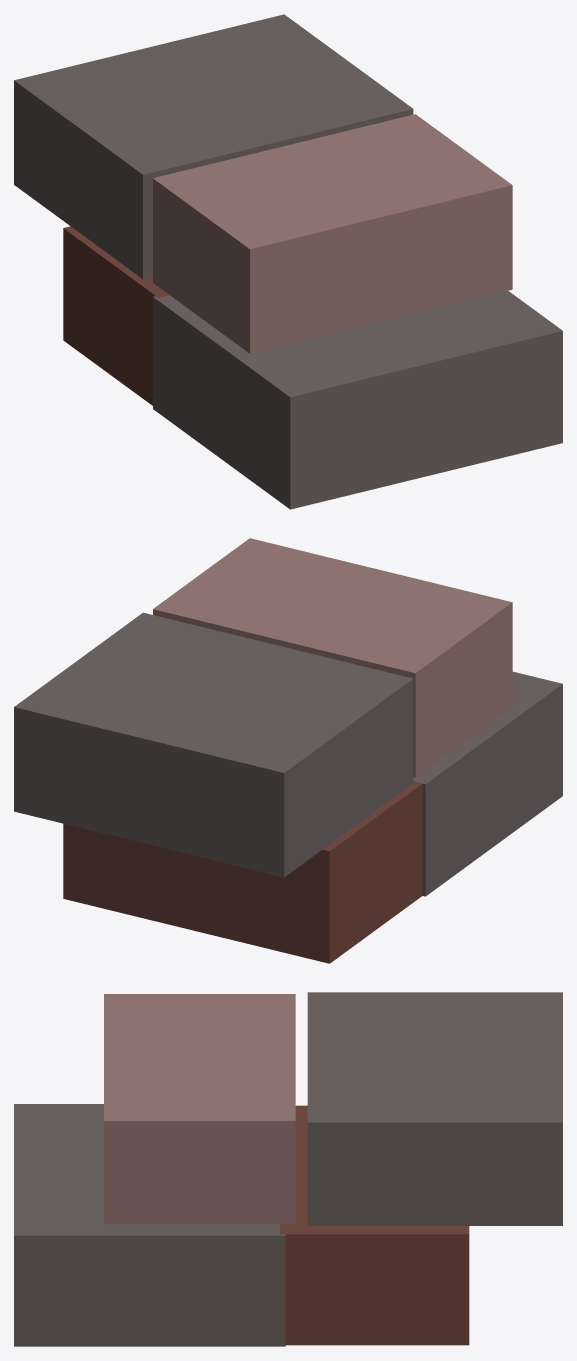
File: Bricks.fbx
3 renders of one model, top to bottom at view 1: azimuth 30°, elevation 25°; view 2: azimuth 150°, elevation 25°; view 3: azimuth 270°, elevation 25°, orthographic.
Visible parts, largest first — view 1: Bricks; view 2: Bricks; view 3: Bricks.
Boxes of the visible parts, bbox=[...] form: Bricks: bbox=[14, 14, 562, 509]; Bricks: bbox=[14, 538, 562, 963]; Bricks: bbox=[14, 992, 562, 1346].
Size of the model in its own units: 31.04 by 24.57 by 54.71.
